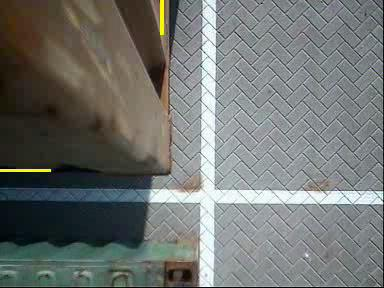groundmarker_2: (155, 89, 248, 156), (198, 231, 233, 269)
